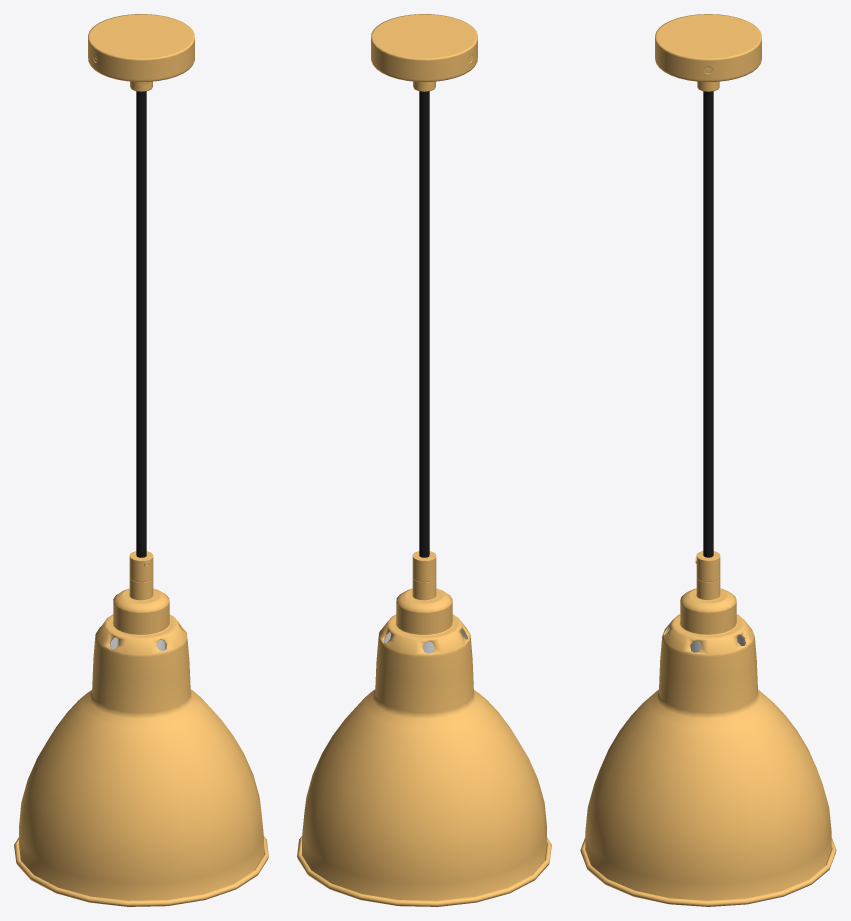
Rendered from Pendant.glb.
The picture shows the model from 3 angles, left to right: view 1: azimuth 30°, elevation 25°; view 2: azimuth 150°, elevation 25°; view 3: azimuth 270°, elevation 25°; orthographic projection.
Visible parts, largest first — view 1: Plafon_001_Metal_Med_0, Cylinder002, Line001; view 2: Plafon_001_Metal_Med_0, Cylinder002, Line001; view 3: Plafon_001_Metal_Med_0, Cylinder002, Line001.
Boxes of the visible parts, x1,y1,x2,y2 form: Plafon_001_Metal_Med_0: [14, 551, 268, 906]; Cylinder002: [88, 14, 194, 81]; Line001: [136, 91, 146, 557]; Plafon_001_Metal_Med_0: [297, 551, 551, 906]; Cylinder002: [371, 14, 477, 81]; Line001: [419, 91, 429, 557]; Plafon_001_Metal_Med_0: [580, 551, 836, 906]; Cylinder002: [655, 14, 761, 81]; Line001: [703, 91, 713, 557].
Size of the model in its own units: 0.71 by 2.5 by 0.71.
